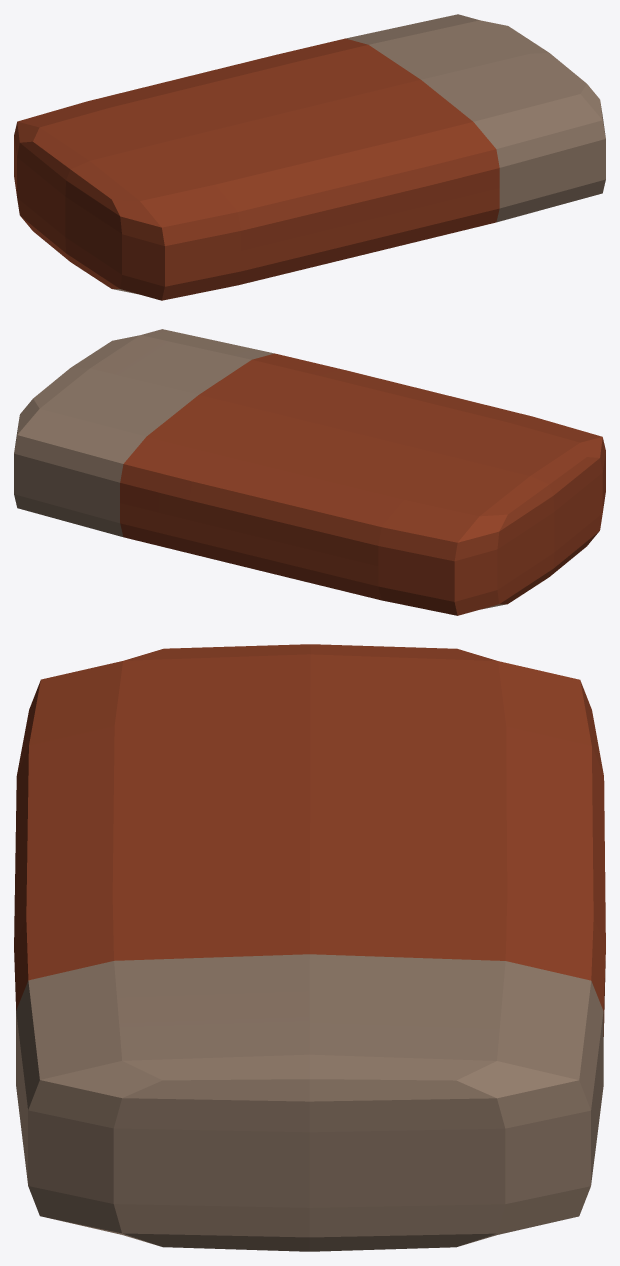
Rendered from SM_Props_CementC2_02.glb.
3 views of the same model, one above another, from view 1: azimuth 30°, elevation 25°; view 2: azimuth 150°, elevation 25°; view 3: azimuth 270°, elevation 25° (orthographic). The views are drawn at different scales.
Parts seen in each view (by area): view 1: SM_Props_CementC2_02; view 2: SM_Props_CementC2_02; view 3: SM_Props_CementC2_02.
Part boxes in pixels (bbox=[...]): SM_Props_CementC2_02: bbox=[14, 14, 605, 300]; SM_Props_CementC2_02: bbox=[14, 329, 605, 615]; SM_Props_CementC2_02: bbox=[14, 644, 605, 1251].
Bounding box in the file's own units: 0.6429 × 0.1276 × 0.3621.
1 material, 1 textured.
